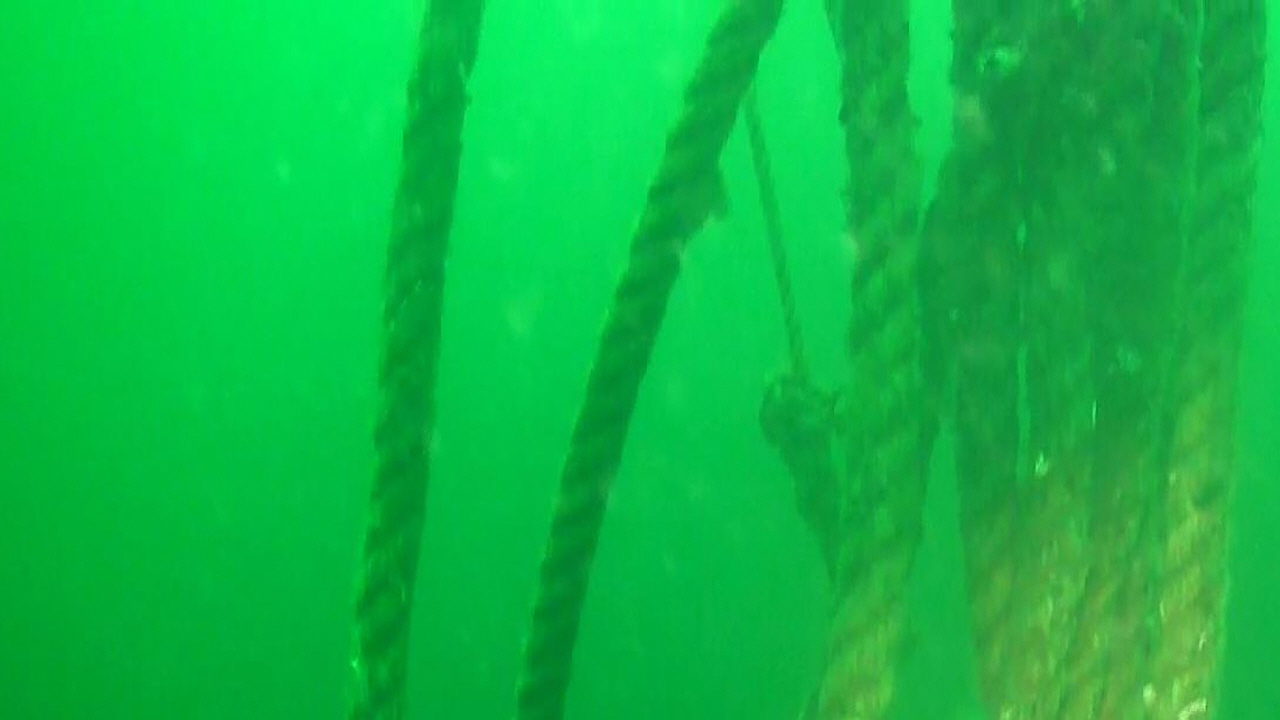bundle of ropes: (349, 0, 1266, 720)
